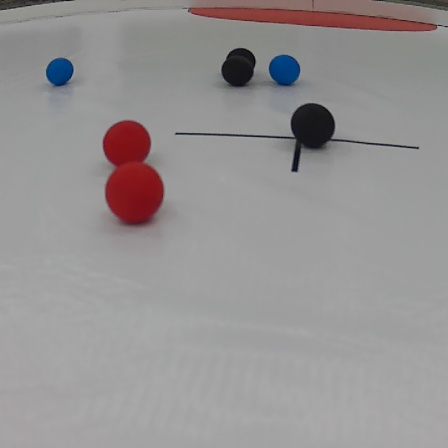black: (287, 104, 345, 143), (221, 58, 254, 86), (228, 46, 254, 69)
blue: (267, 53, 305, 82), (42, 55, 77, 85)
red: (101, 161, 168, 229), (102, 120, 154, 165)
red_base: (185, 6, 441, 34)
